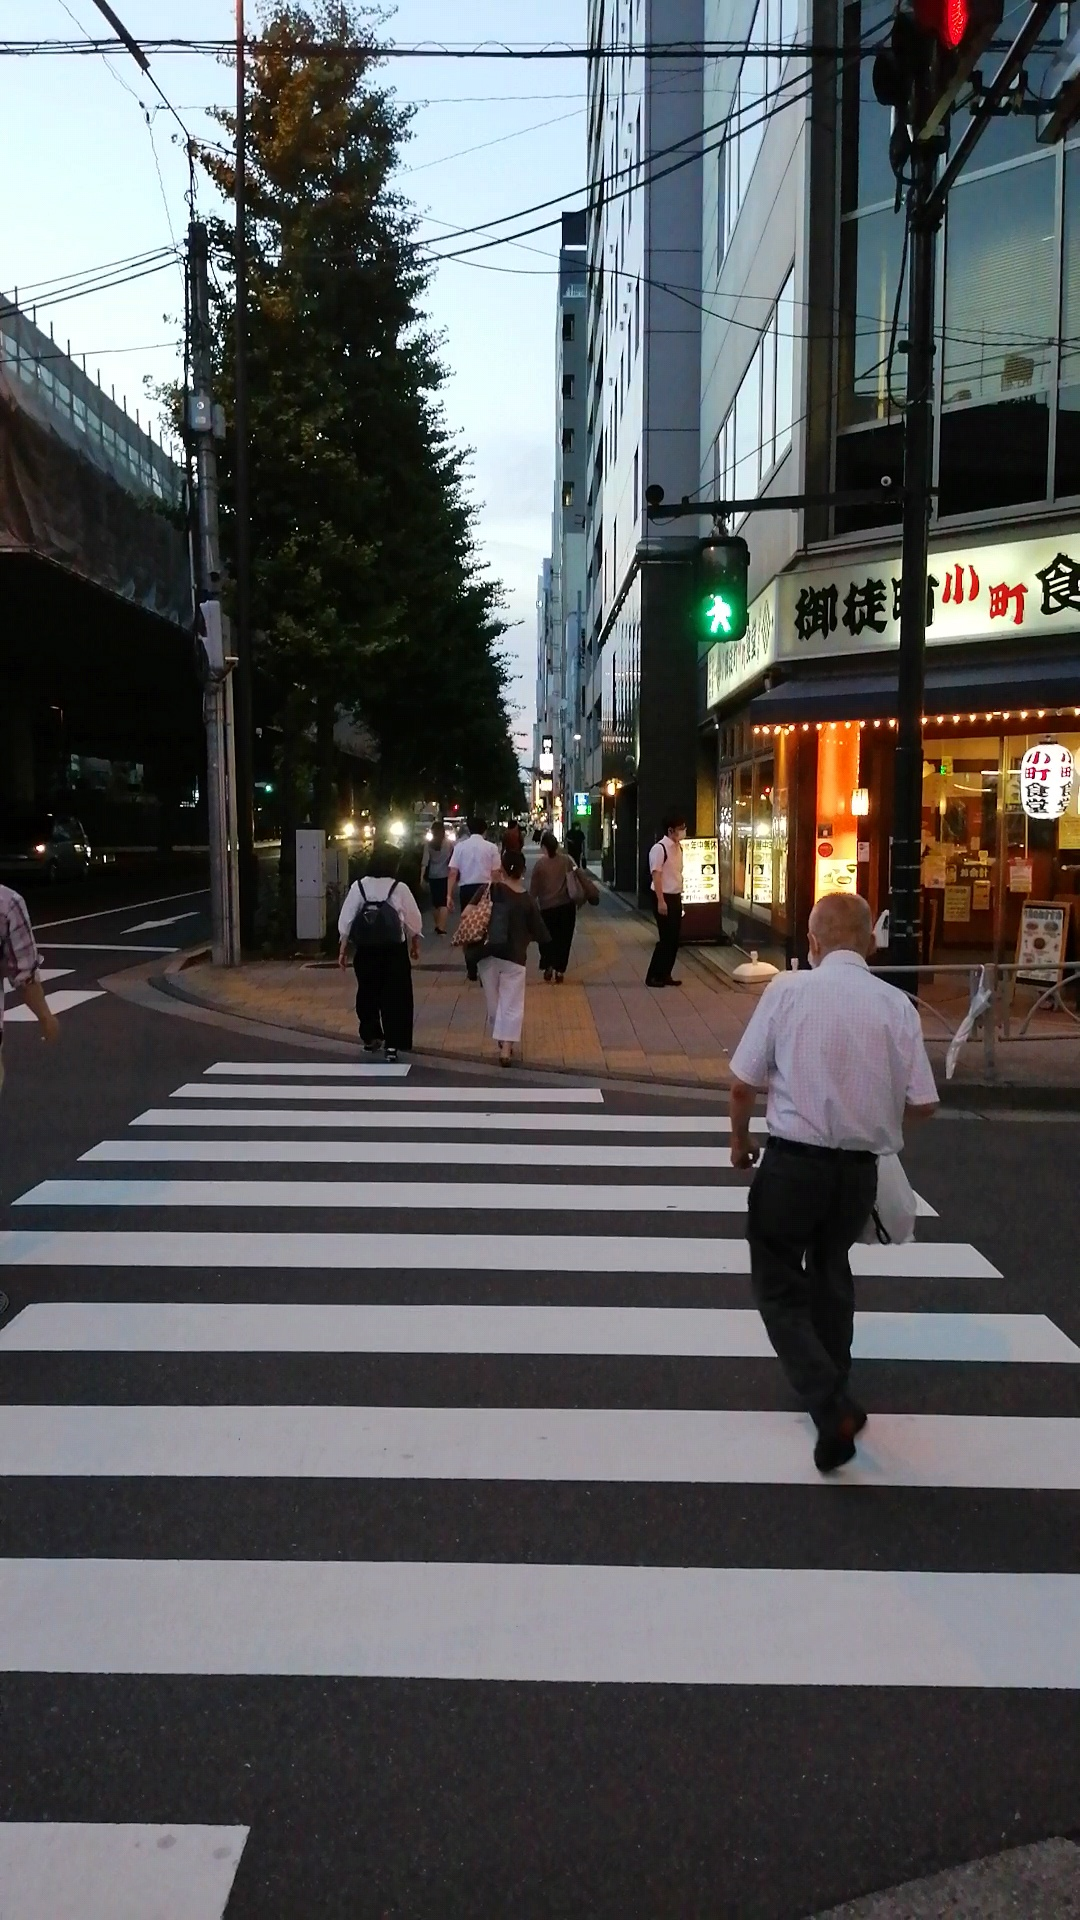green: (694, 534, 746, 641)
